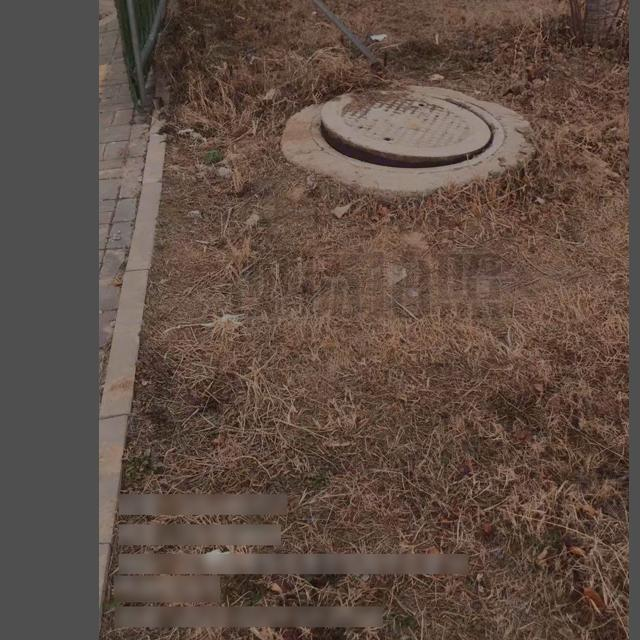uncovered: (311, 89, 506, 174)
